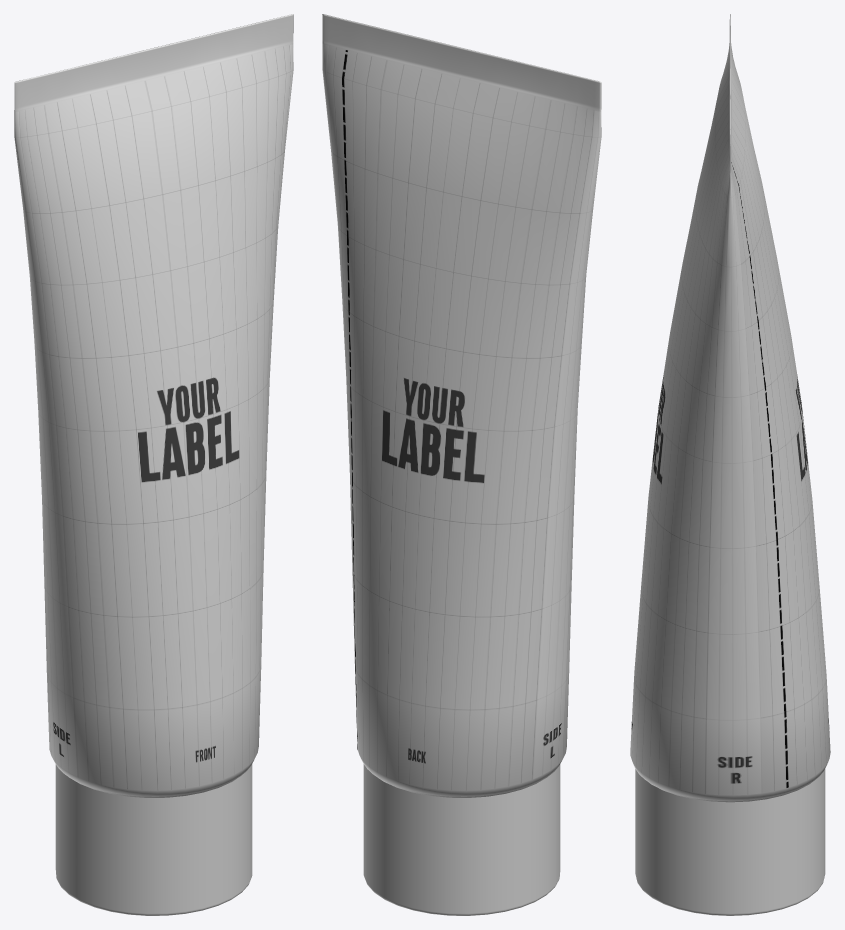
Rendered from TANDPASTA-AQUAFRESH-002_v1.gltf.
3 renders of one model, left to right at view 1: azimuth 30°, elevation 25°; view 2: azimuth 150°, elevation 25°; view 3: azimuth 270°, elevation 25°, orthographic. The views are drawn at different scales.
Visible parts, largest first — view 1: Circle.001; view 2: Circle.001; view 3: Circle.001.
Part boxes in pixels (x1,y1,x2,y2): Circle.001: [14, 14, 293, 915]; Circle.001: [322, 14, 601, 915]; Circle.001: [630, 14, 830, 915].
Bounding box in the file's own units: 0.054 × 0.153 × 0.0348.
Materials: 2 (1 with a texture image).
